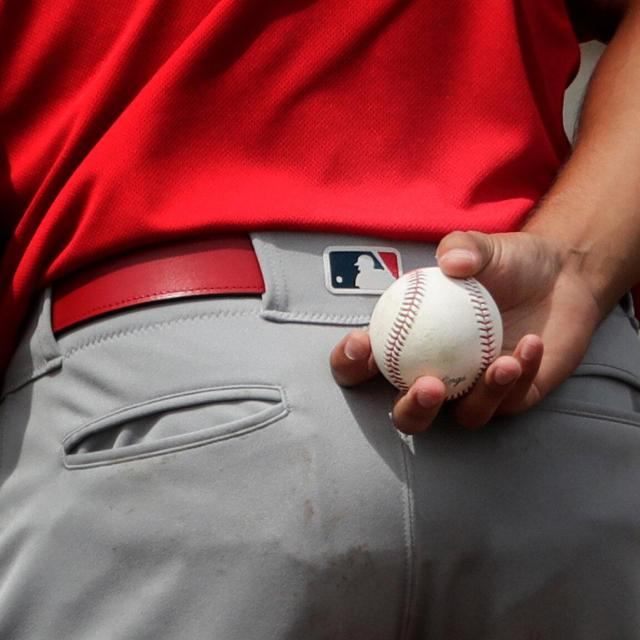baseball: (370, 264, 506, 394)
